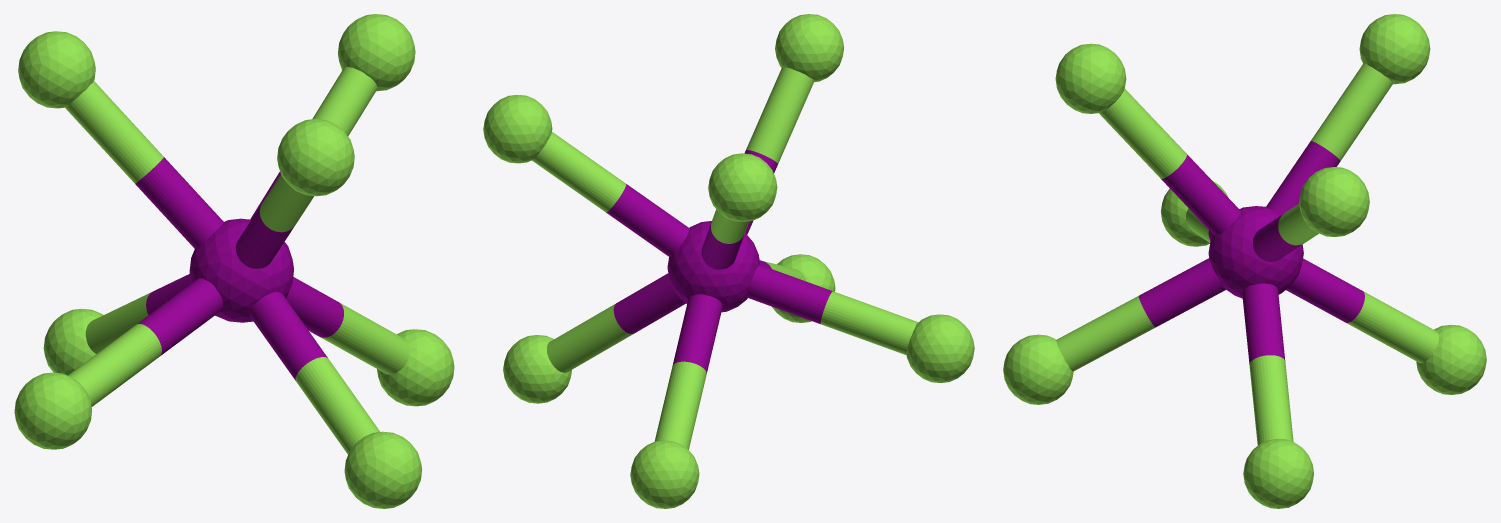
3 renders of one model, left to right at view 1: azimuth 30°, elevation 25°; view 2: azimuth 150°, elevation 25°; view 3: azimuth 270°, elevation 25°, orthographic. The views are drawn at different scales.
Visible parts, largest first — view 1: Shape_IndexedFaceSet.004, Shape_IndexedFaceSet.002, Shape_IndexedFaceSet.001, Shape_IndexedFaceSet.003, Shape_IndexedFaceSet, Shape_IndexedFaceSet.006, Shape_IndexedFaceSet.027, Shape_IndexedFaceSet.007, Shape_IndexedFaceSet.018, Shape_IndexedFaceSet.024, Shape_IndexedFaceSet.029, Shape_IndexedFaceSet.020 (+9 smaller); view 2: Shape_IndexedFaceSet.004, Shape_IndexedFaceSet.005, Shape_IndexedFaceSet, Shape_IndexedFaceSet.001, Shape_IndexedFaceSet.006, Shape_IndexedFaceSet.002, Shape_IndexedFaceSet.024, Shape_IndexedFaceSet.013, Shape_IndexedFaceSet.021, Shape_IndexedFaceSet.007, Shape_IndexedFaceSet.016, Shape_IndexedFaceSet.026 (+7 smaller); view 3: Shape_IndexedFaceSet.004, Shape_IndexedFaceSet.006, Shape_IndexedFaceSet.007, Shape_IndexedFaceSet.002, Shape_IndexedFaceSet.003, Shape_IndexedFaceSet, Shape_IndexedFaceSet.005, Shape_IndexedFaceSet.027, Shape_IndexedFaceSet.018, Shape_IndexedFaceSet.021, Shape_IndexedFaceSet.016, Shape_IndexedFaceSet.010 (+8 smaller).
Boxes of the visible parts, x1,y1,x2,y2 form: Shape_IndexedFaceSet.004: [189, 218, 293, 322]; Shape_IndexedFaceSet.002: [277, 119, 354, 196]; Shape_IndexedFaceSet.001: [14, 372, 91, 449]; Shape_IndexedFaceSet.003: [344, 431, 422, 508]; Shape_IndexedFaceSet: [18, 31, 95, 108]; Shape_IndexedFaceSet.006: [338, 14, 415, 91]; Shape_IndexedFaceSet.027: [65, 81, 163, 183]; Shape_IndexedFaceSet.007: [377, 329, 454, 406]; Shape_IndexedFaceSet.018: [295, 357, 379, 454]; Shape_IndexedFaceSet.024: [68, 324, 161, 406]; Shape_IndexedFaceSet.029: [135, 157, 223, 248]; Shape_IndexedFaceSet.020: [249, 292, 327, 380]; Shape_IndexedFaceSet.004: [667, 221, 760, 312]; Shape_IndexedFaceSet.005: [630, 440, 699, 508]; Shape_IndexedFaceSet: [708, 153, 777, 221]; Shape_IndexedFaceSet.001: [906, 314, 974, 382]; Shape_IndexedFaceSet.006: [483, 94, 552, 163]; Shape_IndexedFaceSet.002: [775, 14, 843, 82]; Shape_IndexedFaceSet.024: [820, 291, 918, 355]; Shape_IndexedFaceSet.013: [532, 132, 626, 212]; Shape_IndexedFaceSet.021: [746, 67, 814, 163]; Shape_IndexedFaceSet.007: [503, 335, 571, 403]; Shape_IndexedFaceSet.016: [654, 361, 706, 449]; Shape_IndexedFaceSet.026: [747, 264, 832, 324]; Shape_IndexedFaceSet.004: [1208, 206, 1303, 298]; Shape_IndexedFaceSet.006: [1299, 167, 1369, 236]; Shape_IndexedFaceSet.007: [1243, 438, 1313, 508]; Shape_IndexedFaceSet.002: [1055, 43, 1126, 113]; Shape_IndexedFaceSet.003: [1003, 334, 1073, 404]; Shape_IndexedFaceSet: [1359, 14, 1430, 84]; Shape_IndexedFaceSet.005: [1416, 324, 1486, 394]; Shape_IndexedFaceSet.027: [1311, 63, 1392, 160]; Shape_IndexedFaceSet.018: [1056, 296, 1155, 371]; Shape_IndexedFaceSet.021: [1099, 88, 1186, 178]; Shape_IndexedFaceSet.016: [1346, 291, 1438, 363]; Shape_IndexedFaceSet.010: [1249, 355, 1293, 445].
Size of the model in its own units: 0.7241 by 0.591 by 0.7019.
